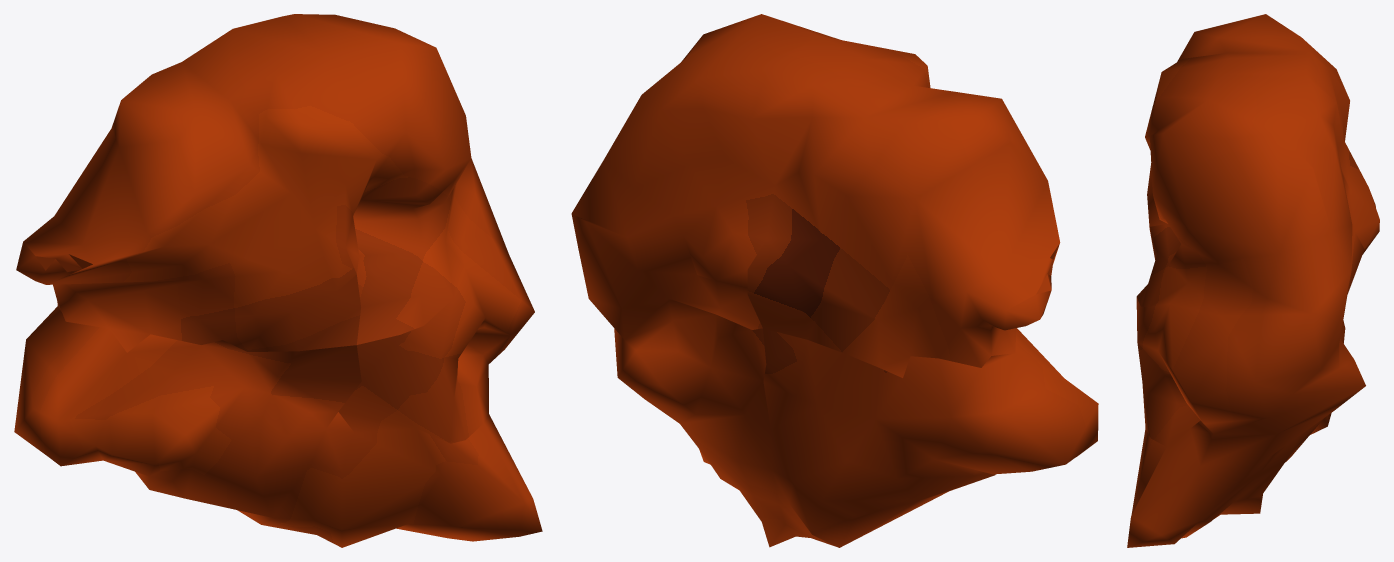
File: Tomato_Flattened.fbx
3 renders of one model, left to right at view 1: azimuth 30°, elevation 25°; view 2: azimuth 150°, elevation 25°; view 3: azimuth 270°, elevation 25°, orthographic. The views are drawn at different scales.
Parts seen in each view (by area): view 1: Tomato_Flattened; view 2: Tomato_Flattened; view 3: Tomato_Flattened.
Boxes of the visible parts, bbox=[...] form: Tomato_Flattened: bbox=[14, 14, 542, 547]; Tomato_Flattened: bbox=[571, 14, 1098, 547]; Tomato_Flattened: bbox=[1127, 14, 1379, 547].
Size of the model in its own units: 20.45 by 20.11 by 10.7.
Materials: 1 (1 with a texture image).
